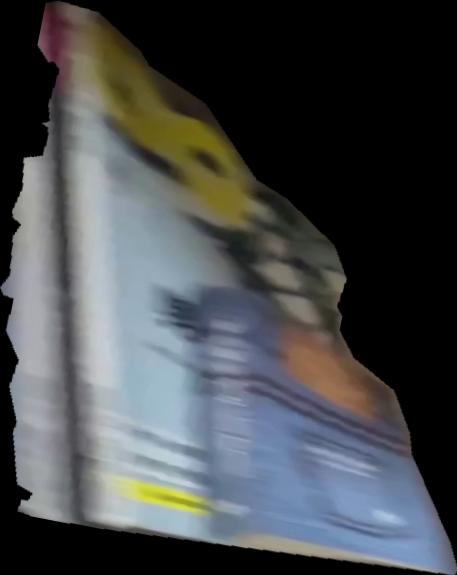backward: (1, 1, 457, 575)
